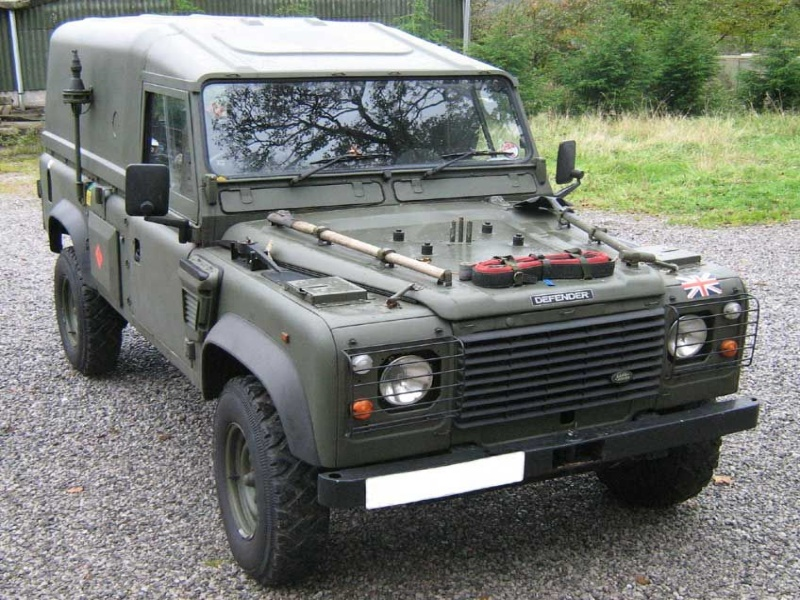jeep: (38, 9, 764, 593)
